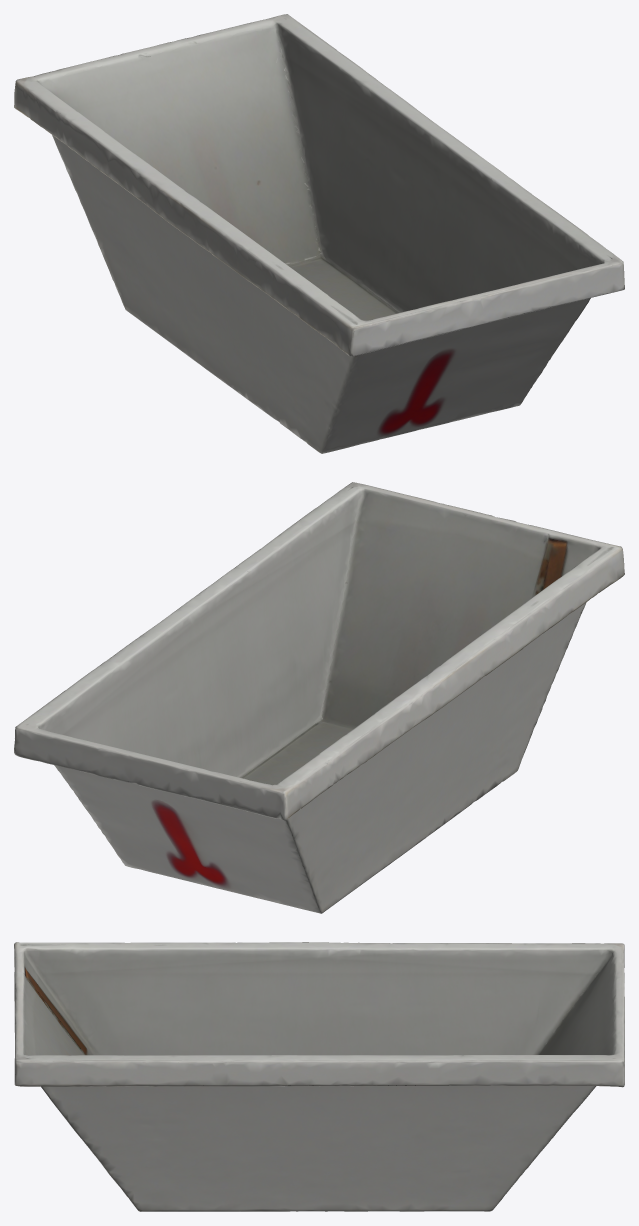
File: skip-5m3.glb
3 views of the same model, one above another, from view 1: azimuth 30°, elevation 25°; view 2: azimuth 150°, elevation 25°; view 3: azimuth 270°, elevation 25° (orthographic). The views are drawn at different scales.
Bounding box in the file's own units: 0.948 × 0.6081 × 2.01.
1 material, 1 textured.
